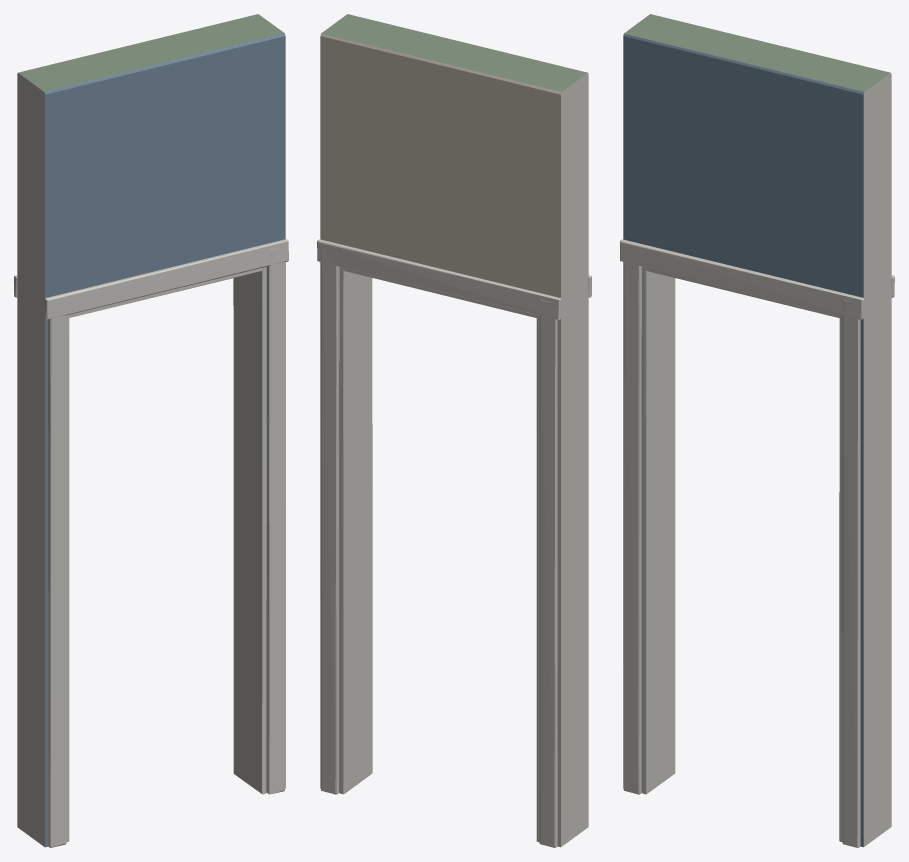
The model's file is SM_Kit_Wall_Arch_Cased_LOD1.glb.
3 views of the same model, side by side, from view 1: azimuth 30°, elevation 25°; view 2: azimuth 150°, elevation 25°; view 3: azimuth 330°, elevation 25° (orthographic).
Parts seen in each view (by area): view 1: SM_Kit_Wall_Arch_Cased_LOD1; view 2: SM_Kit_Wall_Arch_Cased_LOD1; view 3: SM_Kit_Wall_Arch_Cased_LOD1.
Part boxes in pixels (x1=…): SM_Kit_Wall_Arch_Cased_LOD1: x1=14, y1=14, x2=288, y2=847; SM_Kit_Wall_Arch_Cased_LOD1: x1=317, y1=14, x2=591, y2=847; SM_Kit_Wall_Arch_Cased_LOD1: x1=620, y1=14, x2=894, y2=847.
Bounding box in the file's own units: 1.01 × 3 × 0.24.
